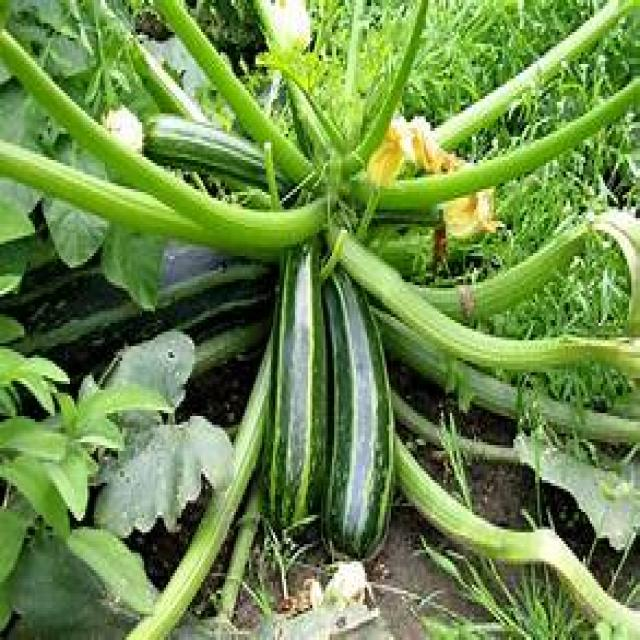Zucchini: (266, 245, 332, 536)
